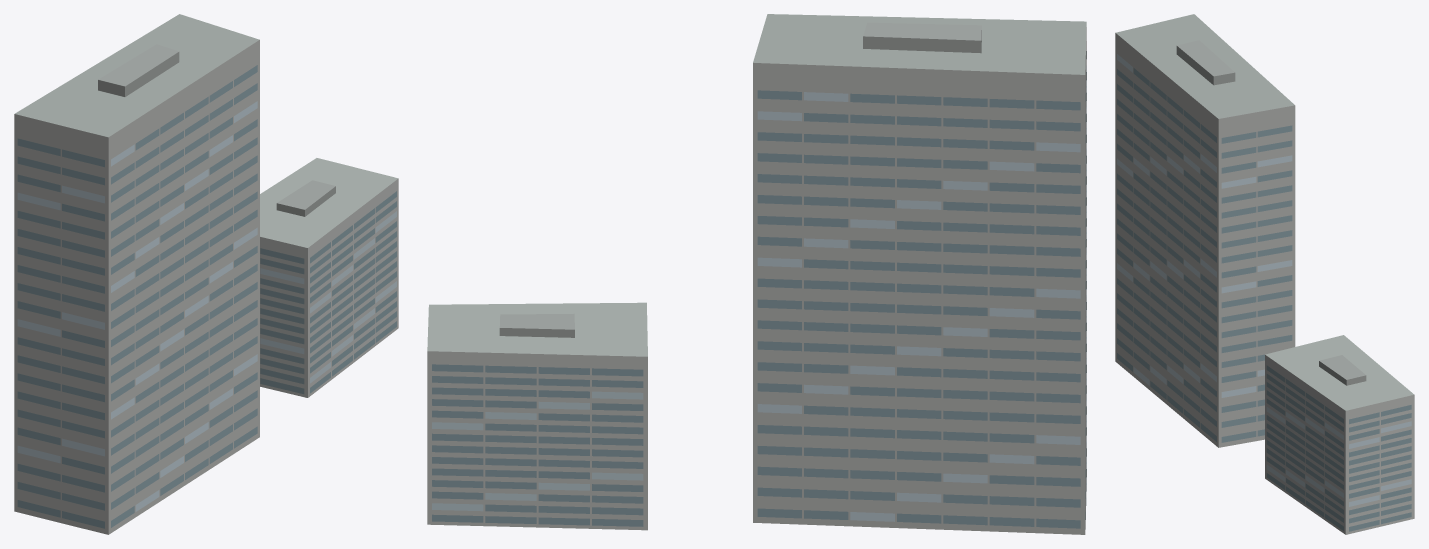
File: apt-a10027881.glb
3 renders of one model, left to right at view 1: azimuth 30°, elevation 25°; view 2: azimuth 150°, elevation 25°; view 3: azimuth 270°, elevation 25°, orthographic. The views are drawn at different scales.
Parts seen in each view (by area): view 1: apt-a10027881; view 2: apt-a10027881; view 3: apt-a10027881.
Boxes of the visible parts, <box> form: apt-a10027881: <box>14,14,398,534</box>; apt-a10027881: <box>427,14,1086,534</box>; apt-a10027881: <box>1115,14,1414,534</box>.
Bounding box in the file's own units: 111 × 91 × 73.
